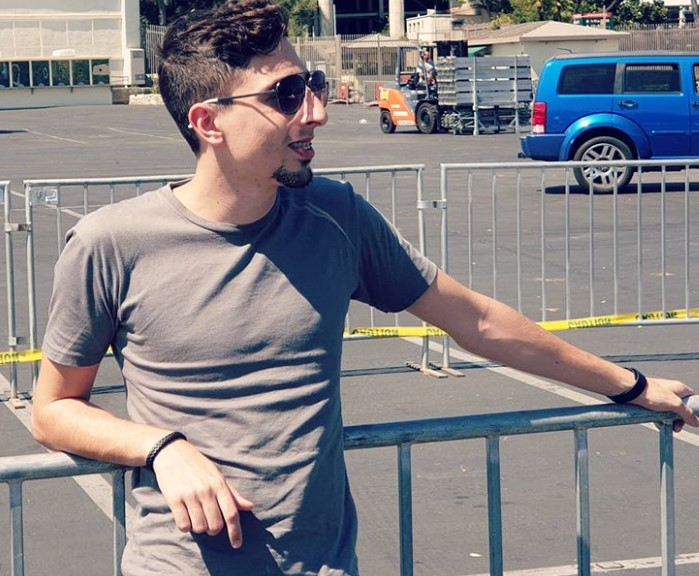face_no_mask: (168, 11, 329, 196)
